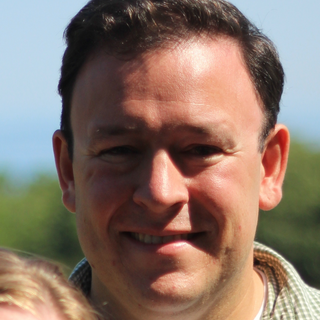eye: (176, 139, 230, 167), (94, 139, 144, 164)
